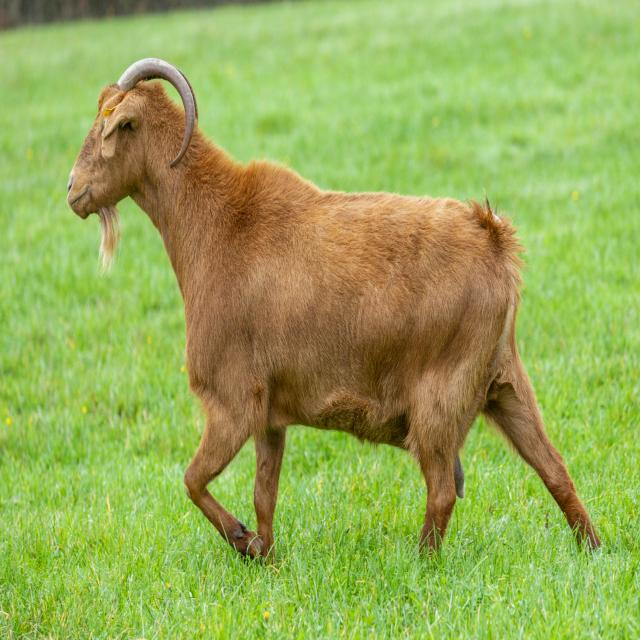goat: (67, 58, 600, 558)
